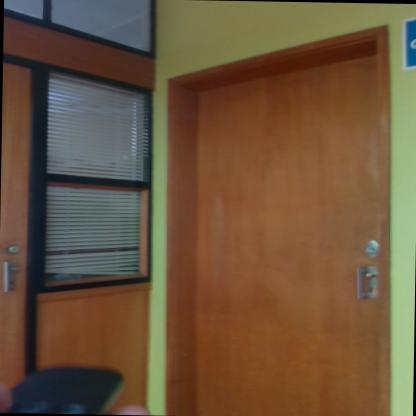closed: (157, 21, 396, 416)
